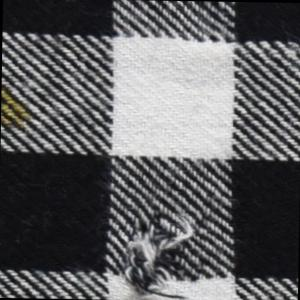Damage: (115, 204, 212, 300)
Stain: (1, 83, 35, 133)
